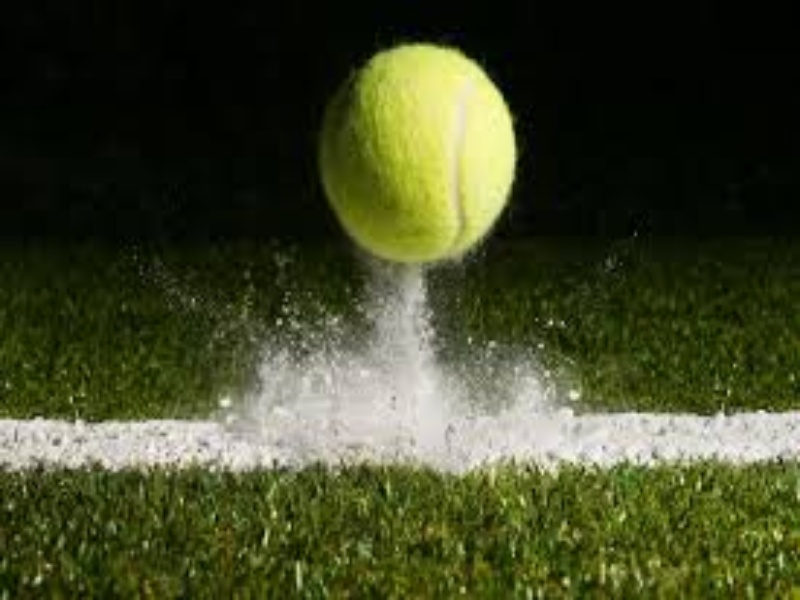tennis ball: (314, 38, 525, 262)
